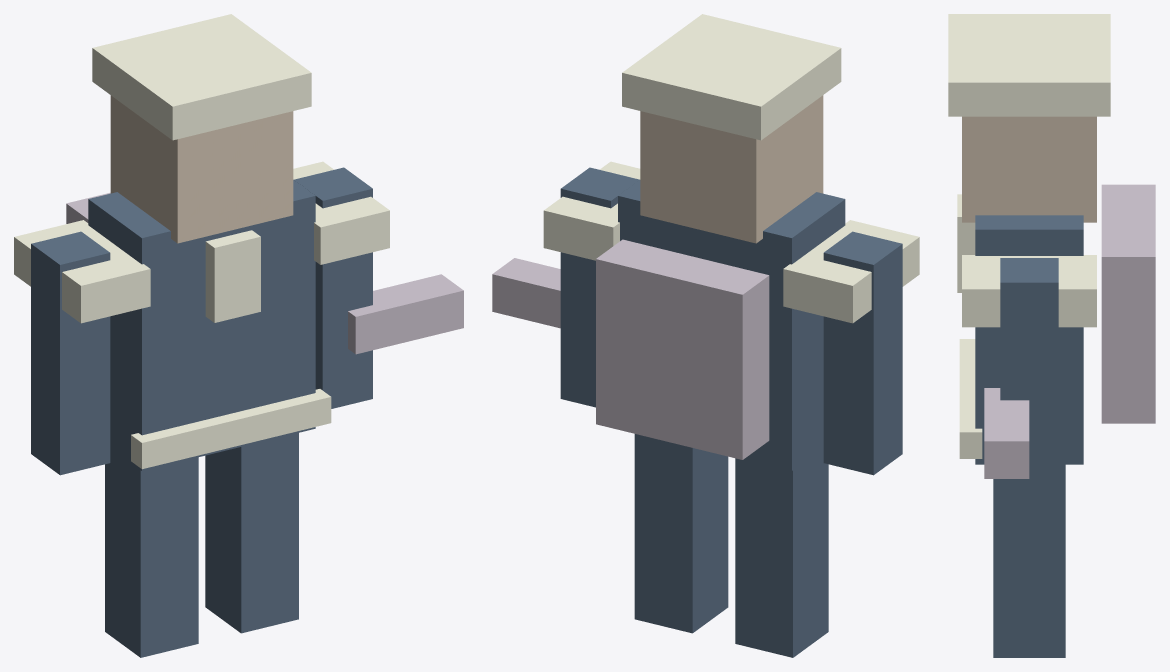
The model's file is 02_kael_cinderholt_keeper_near_passenger.glb.
3 renders of one model, left to right at view 1: azimuth 30°, elevation 25°; view 2: azimuth 150°, elevation 25°; view 3: azimuth 270°, elevation 25°, orthographic.
Visible parts, largest first — view 1: Kael Cinderholt, Keeper near Passenger; view 2: Kael Cinderholt, Keeper near Passenger; view 3: Kael Cinderholt, Keeper near Passenger.
Part boxes in pixels (bbox=[...]): Kael Cinderholt, Keeper near Passenger: bbox=[14, 14, 463, 657]; Kael Cinderholt, Keeper near Passenger: bbox=[492, 14, 919, 657]; Kael Cinderholt, Keeper near Passenger: bbox=[948, 14, 1155, 657].
Bounding box in the file's own units: 1.02 × 1.39 × 0.4565.
